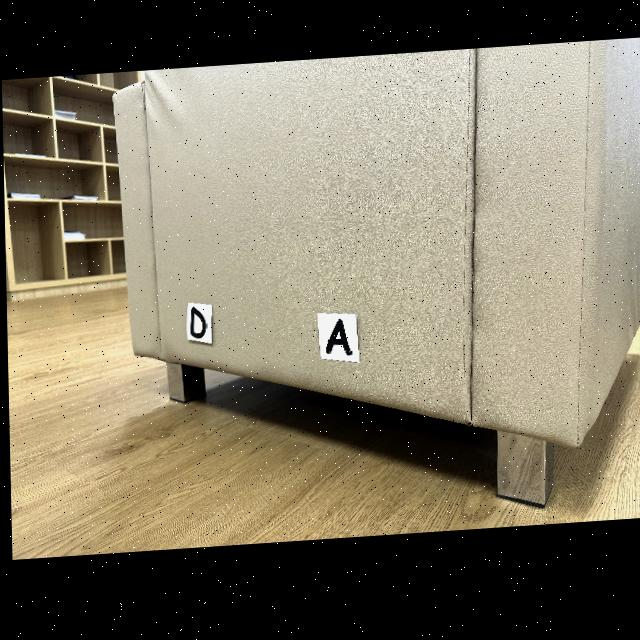A: (325, 324, 350, 361)
D: (189, 309, 205, 341)
